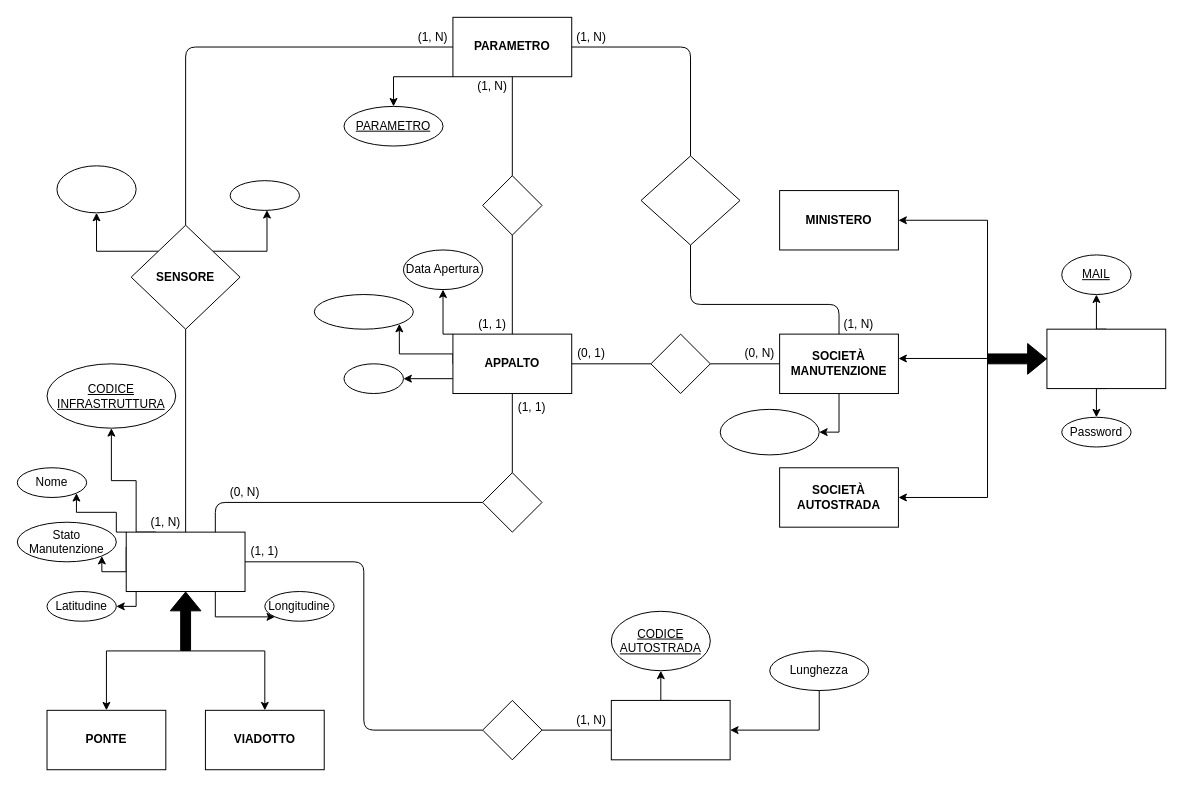
This 1183x787 diagram has some shape labels left out. The shapes that lost their labels are listed below. From the top down, each one's centre as x and y in pixels, then its label:
At (96,189): "Data Rilevazione".
At (264,195): "Valore".
At (690,200): "DISPONIBILITÀ".
At (363,311): "Data Esecuzione".
At (373,378): "ID".
At (1106,358): "UTENTE".
At (769,431): "Data Registrazione".
At (185,561): "INFRASTRUTTURA".
At (670,729): "AUTOSTRADA".
